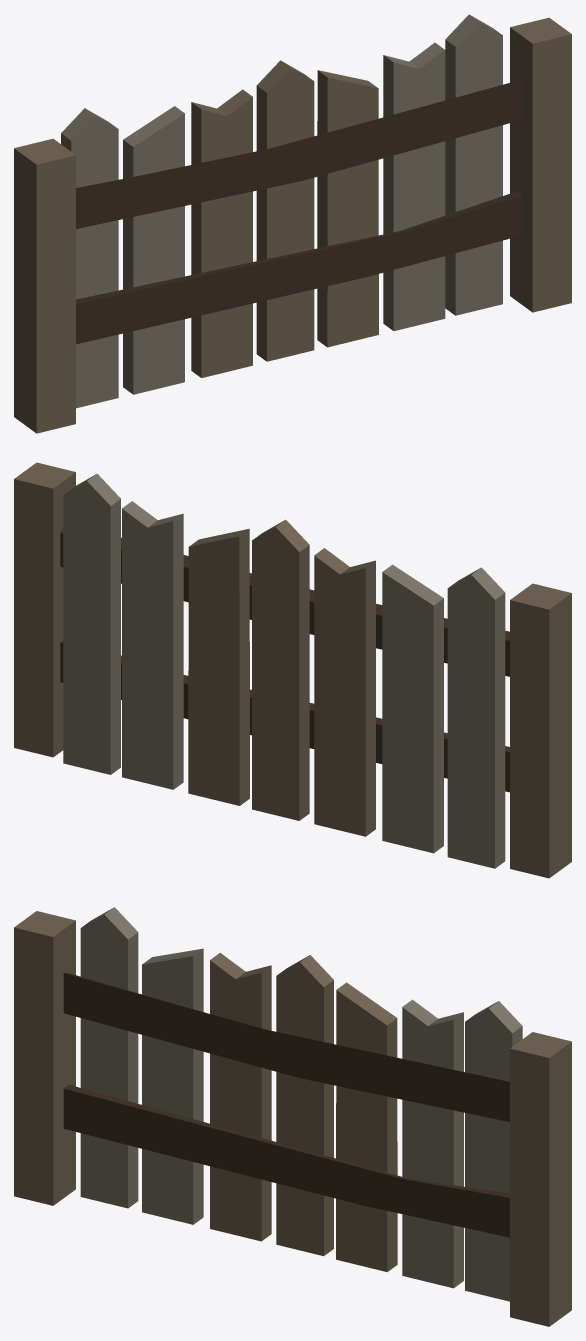
File: Fence.glb
The picture shows the model from 3 angles, top to bottom: view 1: azimuth 30°, elevation 25°; view 2: azimuth 150°, elevation 25°; view 3: azimuth 330°, elevation 25°; orthographic projection.
Visible parts, largest first — view 1: SM_Fence:SM_Fence1; view 2: SM_Fence:SM_Fence1; view 3: SM_Fence:SM_Fence1.
Part boxes in pixels (x1,y1,x2,y2): SM_Fence:SM_Fence1: [14, 14, 571, 433]; SM_Fence:SM_Fence1: [14, 462, 571, 878]; SM_Fence:SM_Fence1: [14, 907, 571, 1326].
Size of the model in its own units: 2.12 by 1.09 by 0.1804.
